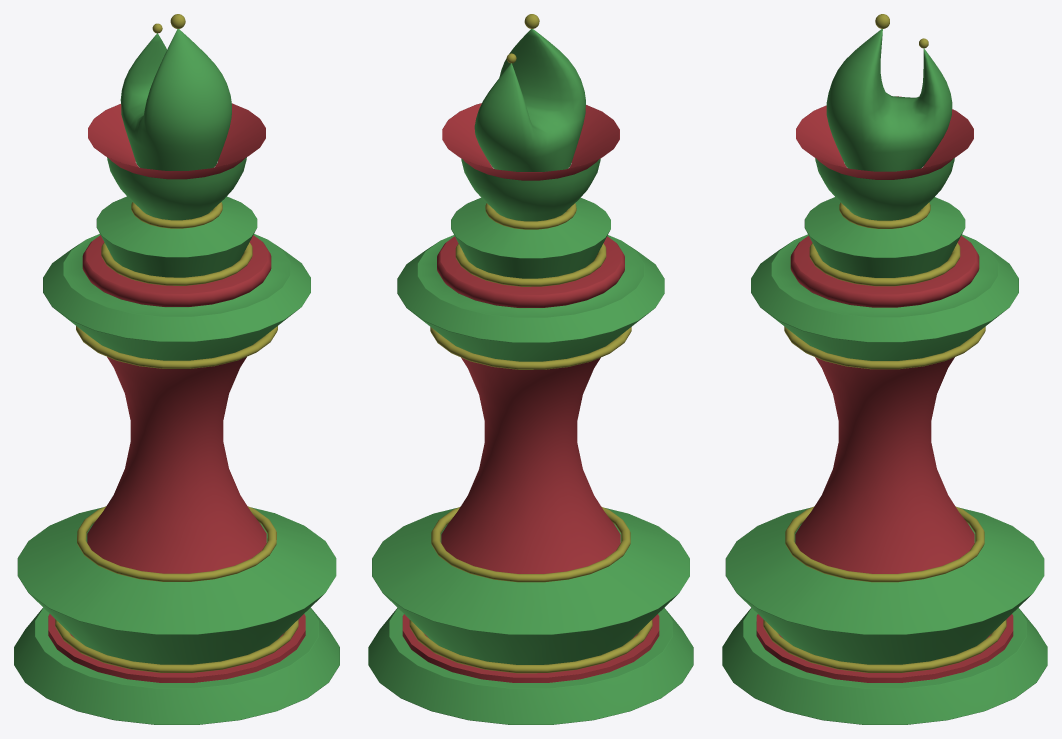
Rendered from Bishop_fbx.fbx.
3 views of the same model, side by side, from view 1: azimuth 30°, elevation 25°; view 2: azimuth 150°, elevation 25°; view 3: azimuth 270°, elevation 25° (orthographic).
Parts seen in each view (by area): view 1: Bishop; view 2: Bishop; view 3: Bishop.
Boxes of the visible parts, box(x1,y1,x2,y2) form: Bishop: box(14, 14, 339, 724); Bishop: box(368, 14, 693, 724); Bishop: box(722, 14, 1047, 724).
Bounding box in the file's own units: 0.0322 × 0.07 × 0.0322.
